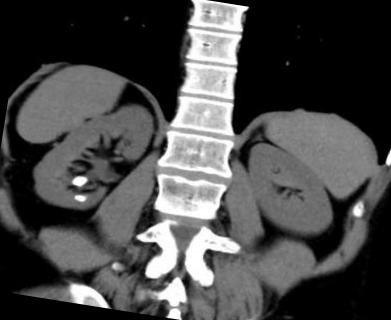Tas_Var: (70, 172, 88, 190), (72, 192, 86, 204)
